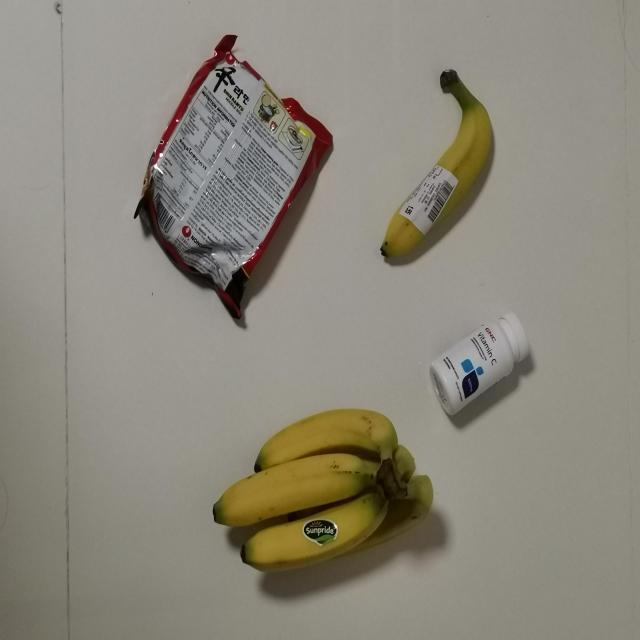Banana: (198, 409, 440, 572), (378, 71, 496, 267)
